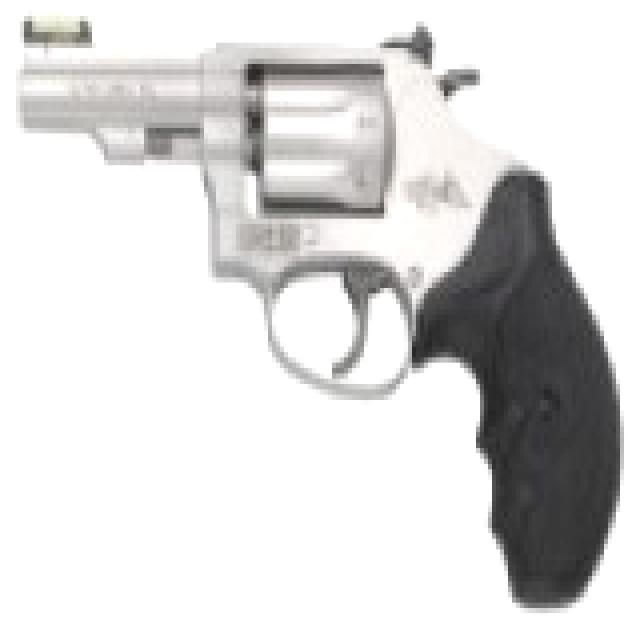pistol: (32, 0, 616, 592)
